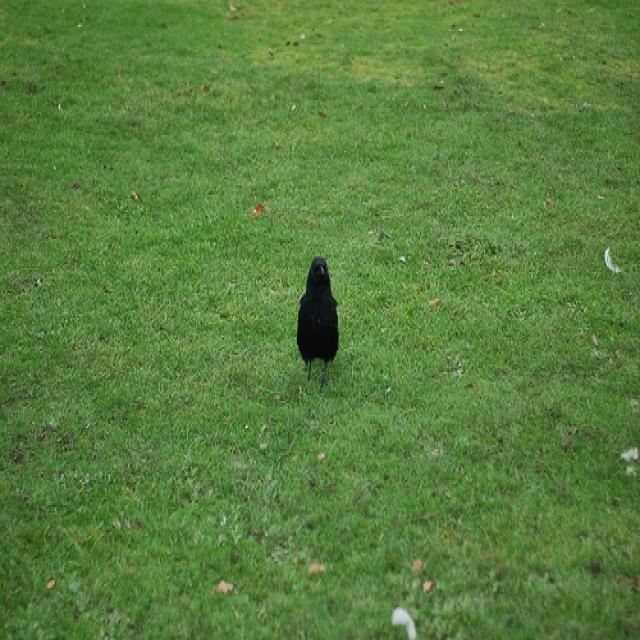bird: (293, 255, 344, 388)
